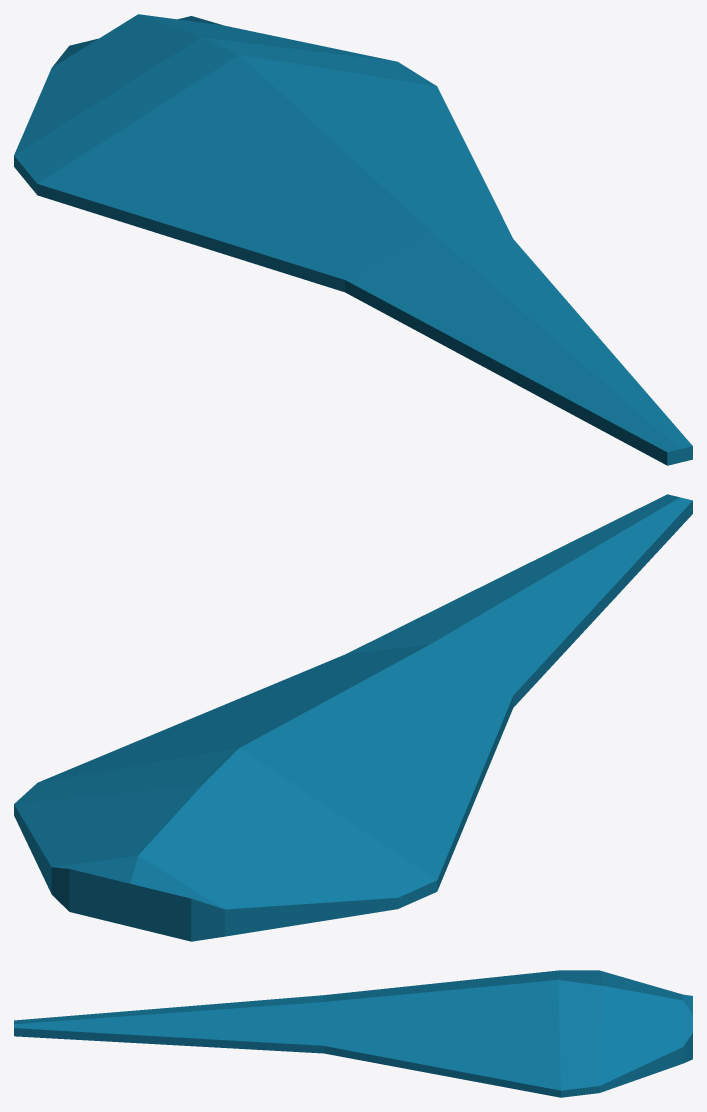
Rendered from ship draft 2.fbx.
3 views of the same model, one above another, from view 1: azimuth 30°, elevation 25°; view 2: azimuth 150°, elevation 25°; view 3: azimuth 270°, elevation 25° (orthographic). The views are drawn at different scales.
Visible parts, largest first — view 1: Ship; view 2: Ship; view 3: Ship.
Part boxes in pixels (bbox=[...]): Ship: bbox=[14, 14, 692, 465]; Ship: bbox=[14, 494, 692, 941]; Ship: bbox=[14, 970, 692, 1097].
Size of the model in its own units: 770 by 194 by 1834.
